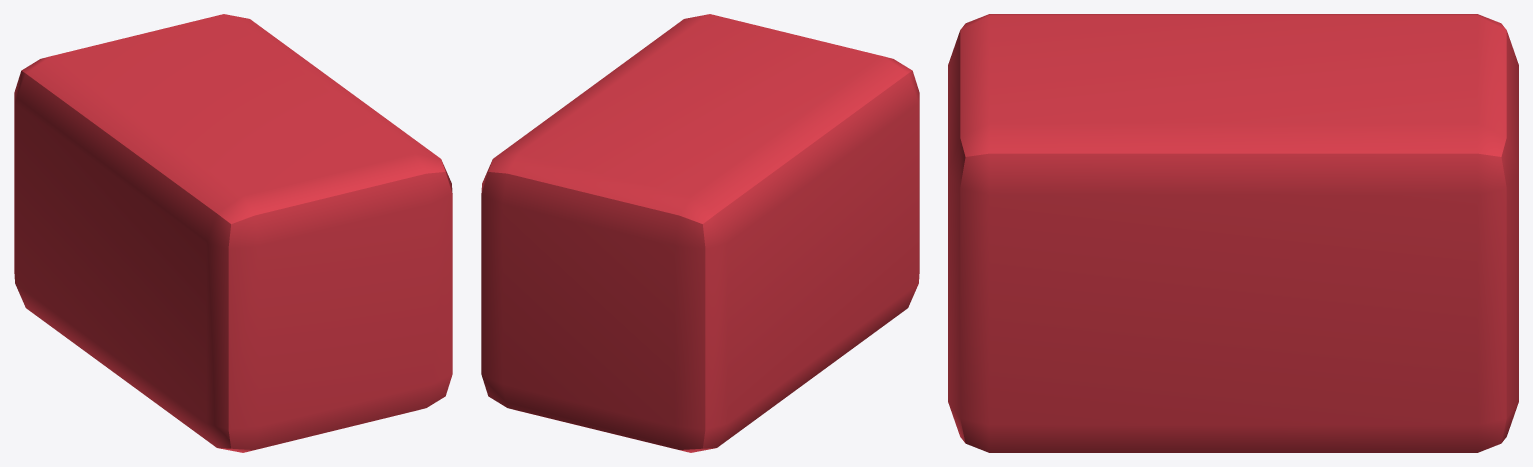
File: subject.fbx
The picture shows the model from 3 angles, left to right: view 1: azimuth 30°, elevation 25°; view 2: azimuth 150°, elevation 25°; view 3: azimuth 270°, elevation 25°; orthographic projection. The views are drawn at different scales.
Visible parts, largest first — view 1: subject; view 2: subject; view 3: subject.
Boxes of the visible parts, x1,y1,x2,y2 form: subject: (14,14,452,452); subject: (481,14,919,452); subject: (948,14,1518,452).
Bounding box in the file's own units: 58.97 × 58.97 × 92.95.
